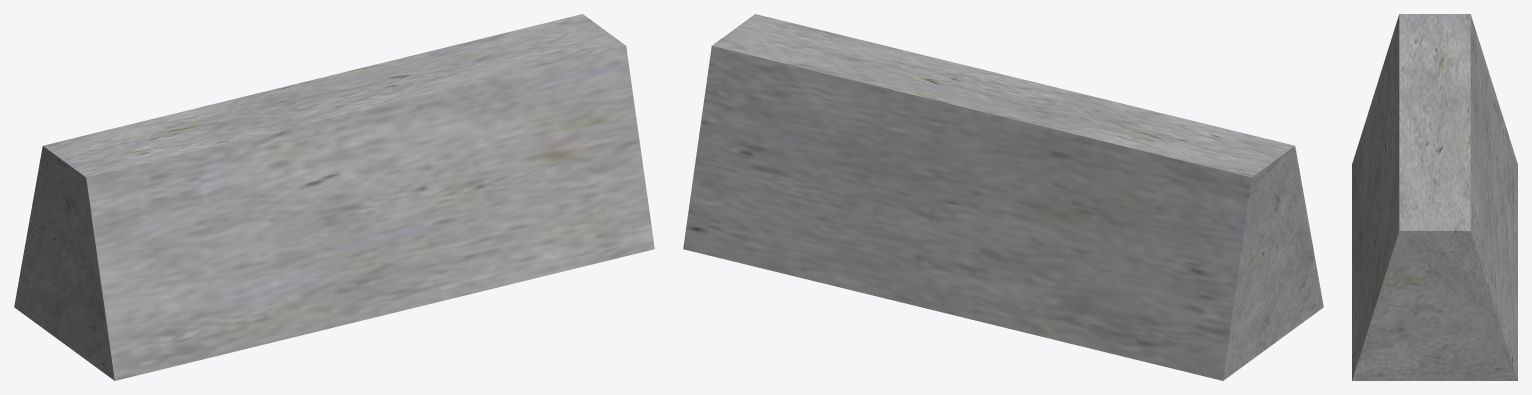
The model's file is duanmian.glb.
3 renders of one model, left to right at view 1: azimuth 30°, elevation 25°; view 2: azimuth 150°, elevation 25°; view 3: azimuth 270°, elevation 25°, orthographic. The views are drawn at different scales.
Visible parts, largest first — view 1: Cube; view 2: Cube; view 3: Cube.
Boxes of the visible parts, x1,y1,x2,y2 form: Cube: (14,14,654,380); Cube: (683,14,1323,380); Cube: (1352,14,1517,380).
Bounding box in the file's own units: 6.19 × 2 × 2.
Materials: 1 (1 with a texture image).
